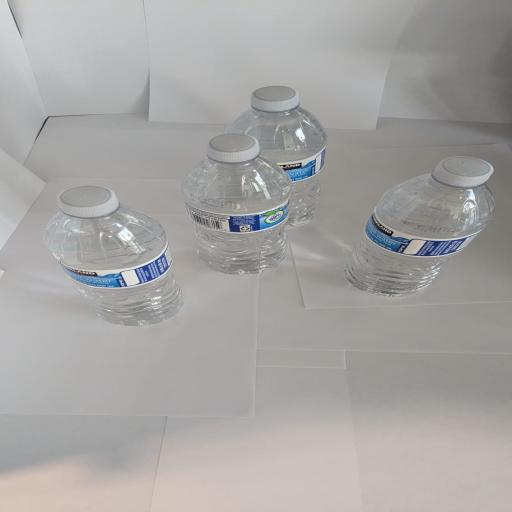waterbottle: (345, 157, 494, 295), (44, 187, 182, 325), (182, 134, 290, 273), (228, 86, 326, 226)
